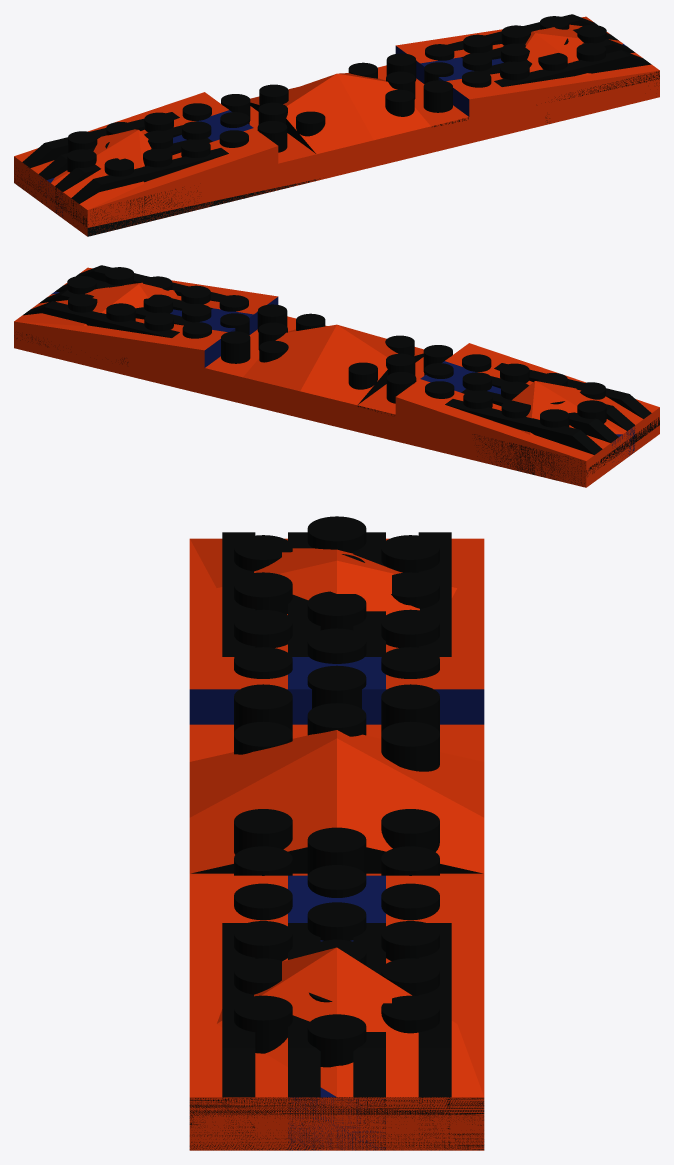
Rendered from Obstacles.fbx.
3 renders of one model, top to bottom at view 1: azimuth 30°, elevation 25°; view 2: azimuth 150°, elevation 25°; view 3: azimuth 270°, elevation 25°, orthographic. The views are drawn at different scales.
Parts seen in each view (by area): view 1: Obstacle 3, Obstacle 0, Obstacle 4, Obstacle 7, Obstacle 6, Obstacle 5, Obstacle 8, Obstacle 1, Obstacle 2a, Obstacle 2; view 2: Obstacle 3, Obstacle 4, Obstacle 0, Obstacle 7, Obstacle 6, Obstacle 5, Obstacle 8, Obstacle 1a, Obstacle 1, Obstacle 2; view 3: Obstacle 3, Obstacle 5, Obstacle 6, Obstacle 4, Obstacle 7, Obstacle 8, Obstacle 0, Obstacle 2, Obstacle 1.
Boxes of the visible parts, box(x1,y1,x2,y2) form: Obstacle 3: box(14, 16, 659, 234); Obstacle 0: box(14, 65, 659, 236); Obstacle 4: box(14, 73, 658, 232); Obstacle 7: box(14, 14, 659, 232); Obstacle 6: box(348, 16, 659, 154); Obstacle 5: box(67, 84, 325, 227); Obstacle 8: box(51, 16, 656, 225); Obstacle 1: box(14, 106, 362, 235); Obstacle 2a: box(14, 106, 319, 236); Obstacle 2: box(378, 66, 659, 126); Obstacle 3: box(14, 267, 659, 486); Obstacle 4: box(15, 324, 659, 486); Obstacle 0: box(14, 316, 659, 487); Obstacle 7: box(23, 265, 651, 486); Obstacle 6: box(14, 267, 325, 409); Obstacle 5: box(348, 335, 606, 487); Obstacle 8: box(14, 282, 659, 484); Obstacle 1a: box(14, 321, 294, 415); Obstacle 1: box(320, 357, 659, 487); Obstacle 2: box(205, 316, 295, 377); Obstacle 3: box(189, 538, 484, 1150); Obstacle 5: box(189, 516, 484, 771); Obstacle 6: box(189, 809, 484, 1067); Obstacle 4: box(189, 730, 484, 1150); Obstacle 7: box(190, 532, 483, 1150); Obstacle 8: box(190, 538, 483, 1097); Obstacle 0: box(189, 724, 484, 1150); Obstacle 2: box(189, 873, 484, 1150); Obstacle 1: box(189, 724, 484, 761).
Bounding box in the file's own units: 8976 × 996 × 2000.
